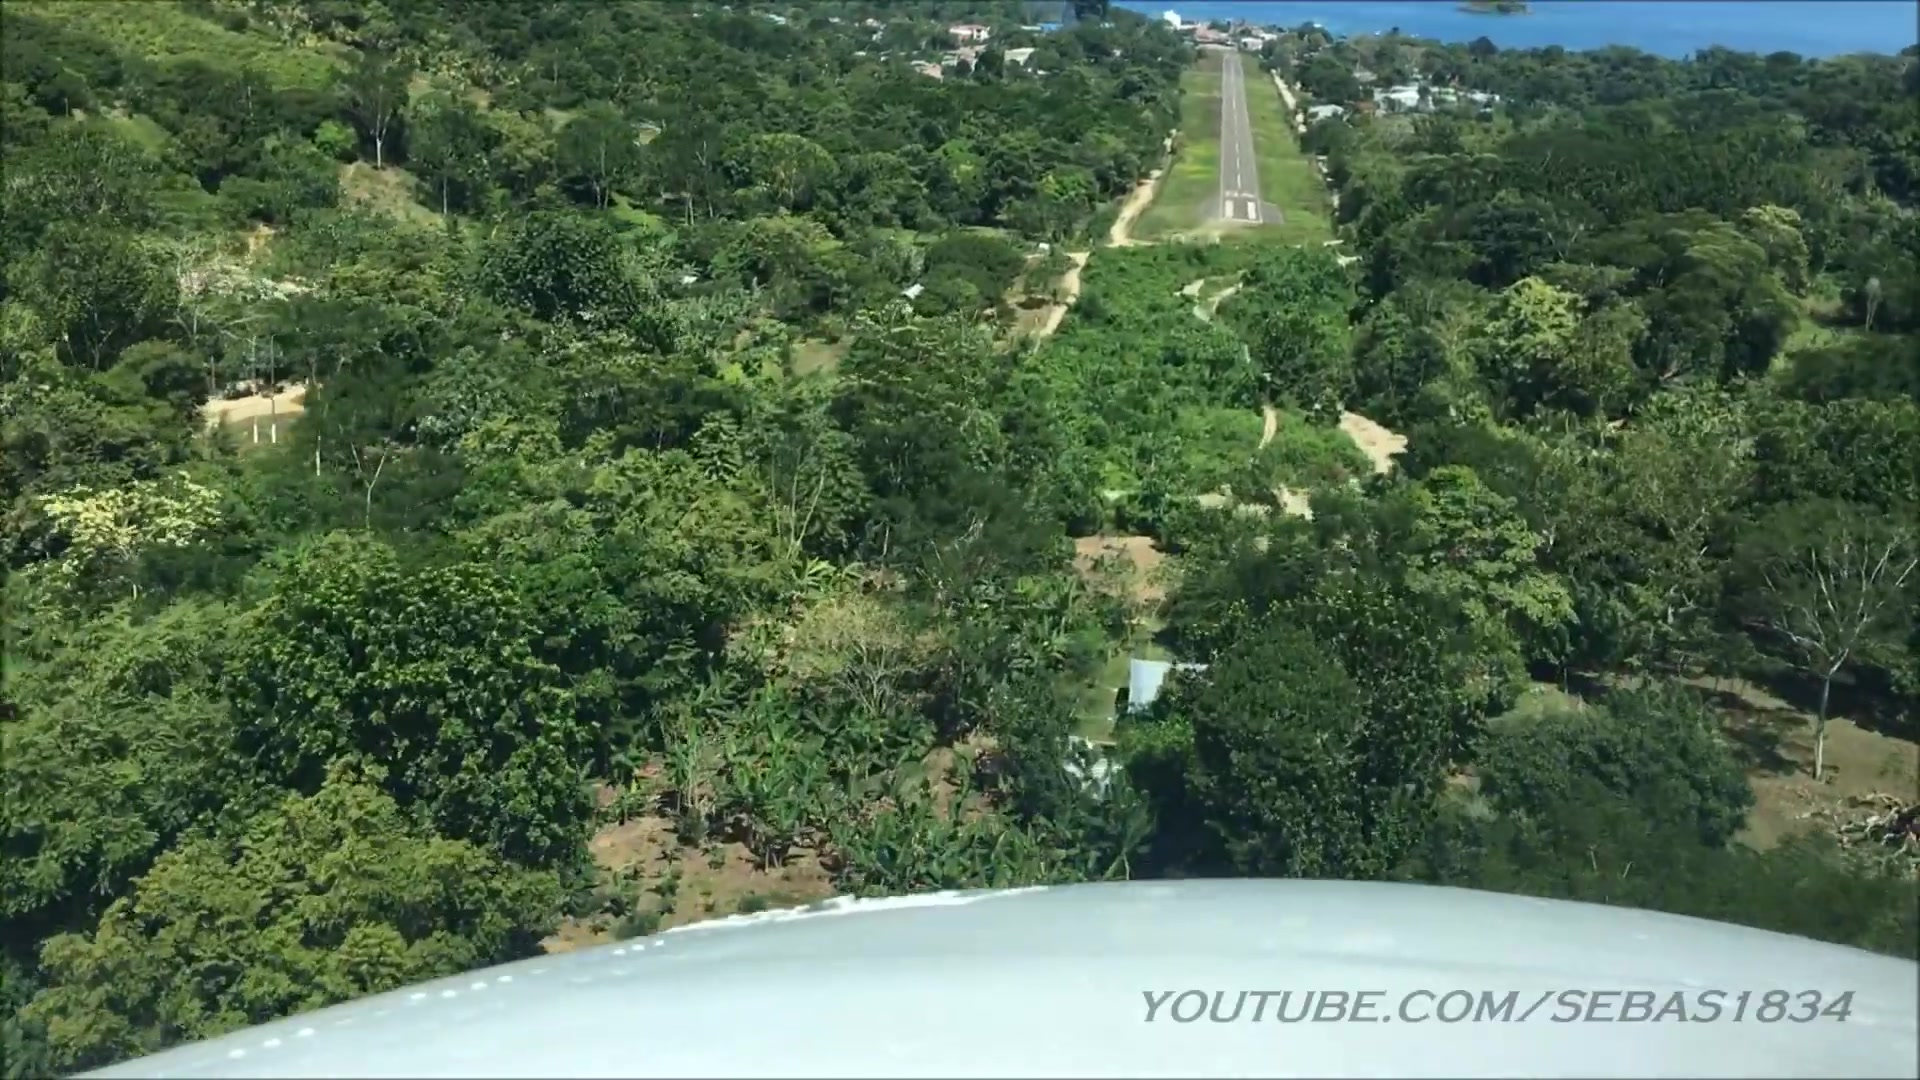entrance: (1222, 196, 1258, 219)
runway: (1213, 51, 1263, 222)
